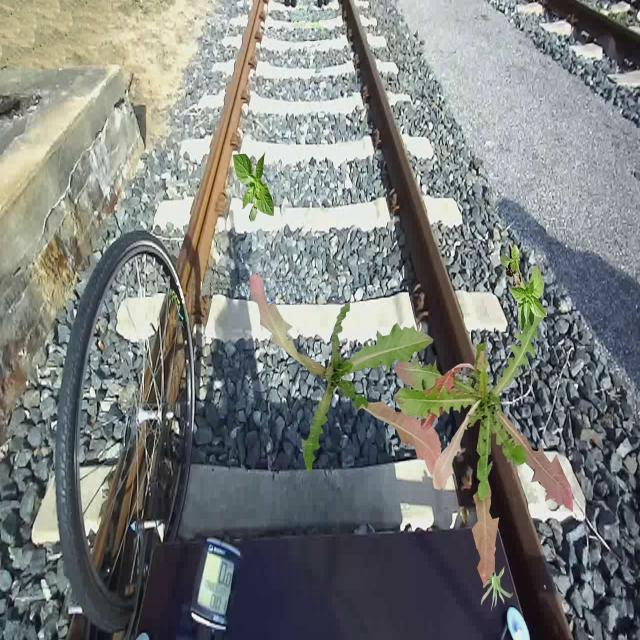Plant: (394, 308, 574, 586), (249, 273, 442, 476), (500, 241, 548, 336), (233, 151, 274, 222), (481, 566, 514, 612)
